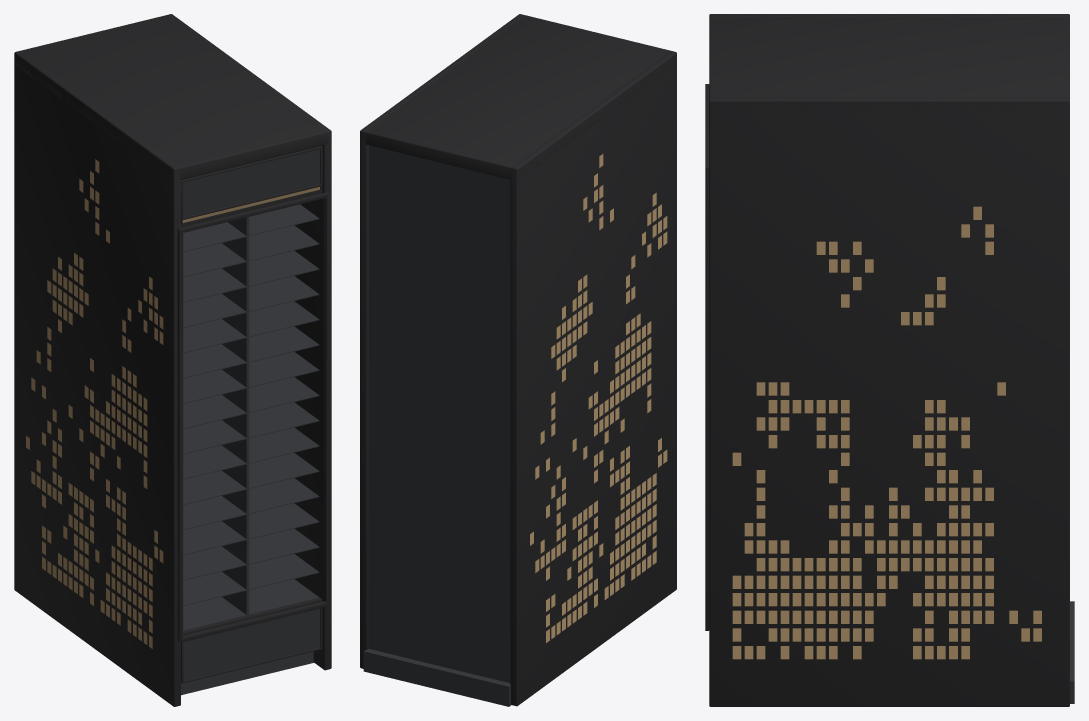
Rendered from rack.glb.
The picture shows the model from 3 angles, left to right: view 1: azimuth 30°, elevation 25°; view 2: azimuth 150°, elevation 25°; view 3: azimuth 270°, elevation 25°; orthographic projection. The views are drawn at different scales.
Visible parts, largest first — view 1: rack_body, rack_dark, perf, frame, bezel_perf, crown_perf, crown_frame, bezel_rim; view 2: rack_body, rack_dark, perf; view 3: rack_body, perf, frame.
Boxes of the visible parts, x1,y1,x2,y2 form: rack_body: (14,14,331,706); rack_dark: (181,204,319,695); perf: (26,159,163,648); frame: (177,192,330,641); bezel_perf: (183,609,319,680); crown_perf: (183,149,320,217); crown_frame: (181,146,322,220); bezel_rim: (181,607,322,683); rack_body: (360,14,676,706); rack_dark: (363,145,511,706); perf: (530,154,667,642); rack_body: (709,14,1069,706); perf: (732,206,1041,659); frame: (705,84,709,630).
Size of the model in its own units: 0.6174 by 2 by 1.11.
